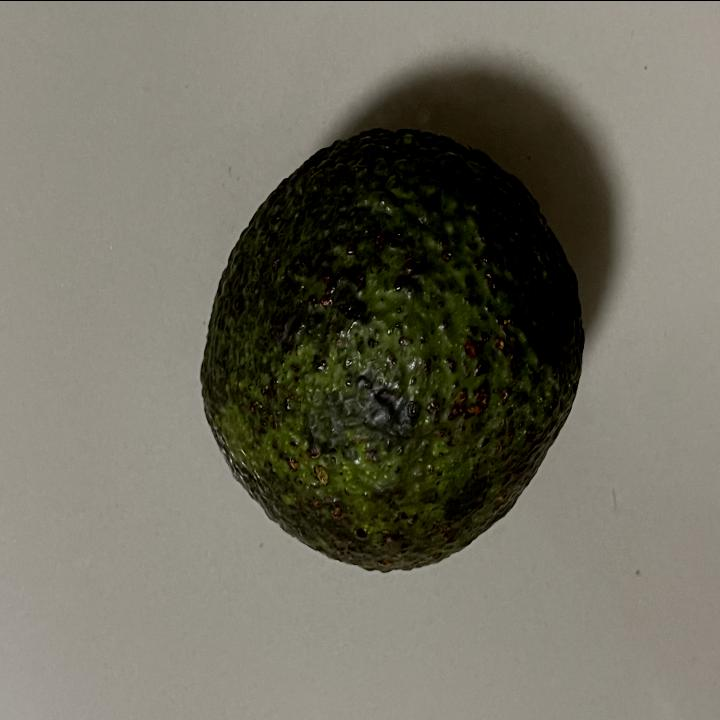Level1: (186, 114, 594, 584)
